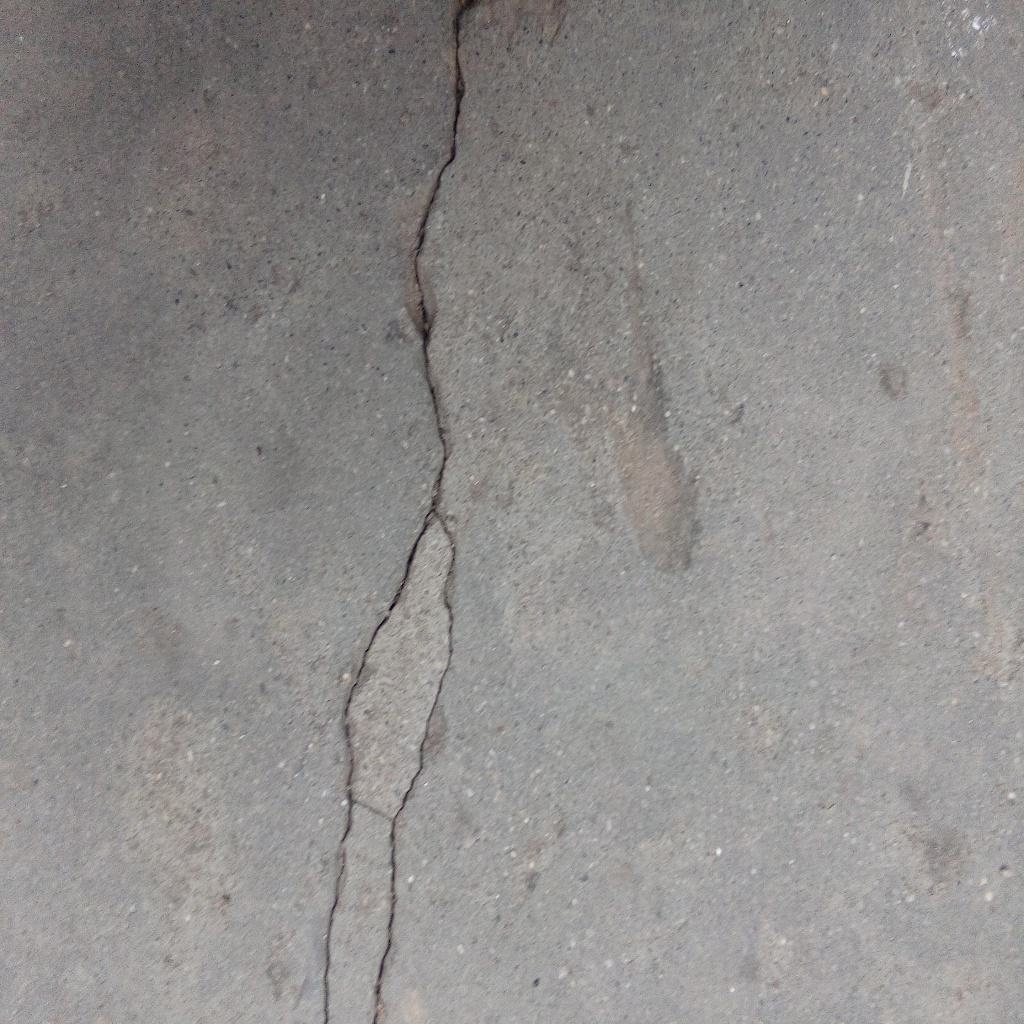Crack: (324, 1, 467, 1024)
